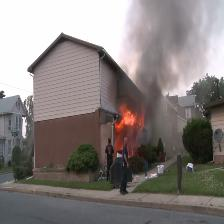fire: (113, 98, 150, 173)
smoke: (118, 0, 224, 105)
